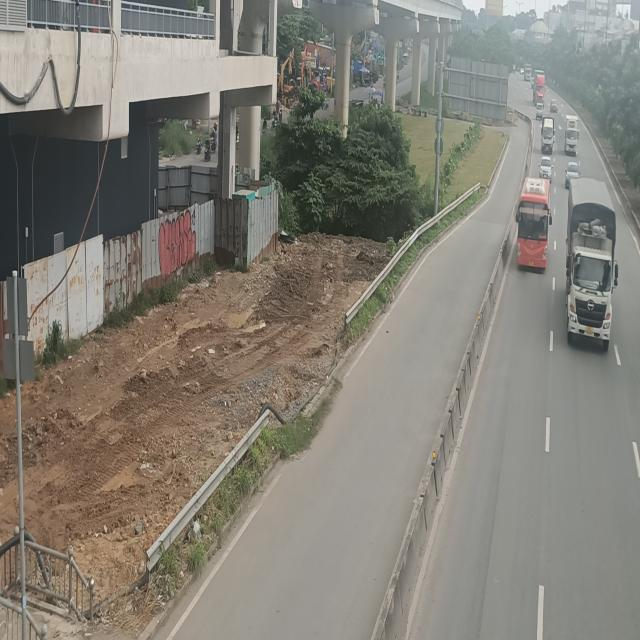coach: (516, 174, 552, 269)
truck: (563, 180, 617, 352), (540, 115, 554, 154), (565, 116, 578, 155)
